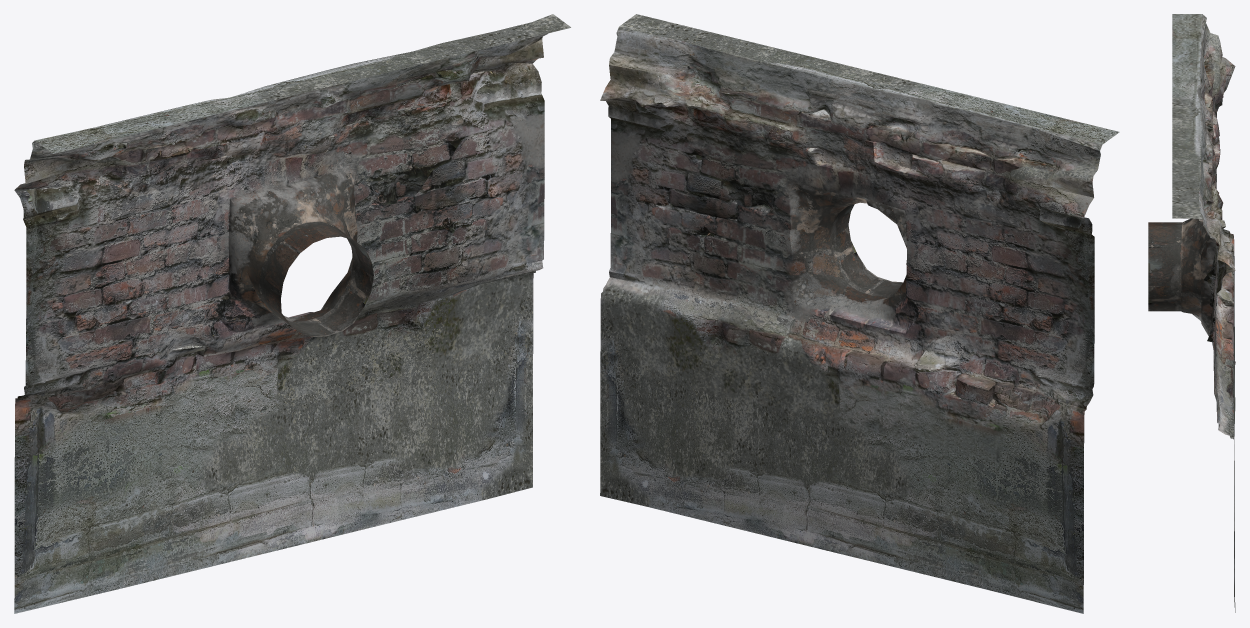
File: SM_ChapelWall_04_04_OneSide.fbx
The picture shows the model from 3 angles, left to right: view 1: azimuth 30°, elevation 25°; view 2: azimuth 150°, elevation 25°; view 3: azimuth 270°, elevation 25°; orthographic projection. The views are drawn at different scales.
Parts seen in each view (by area): view 1: sm_ChapelWall_04_04_OneSide_LOD0; view 2: sm_ChapelWall_04_04_OneSide_LOD0; view 3: sm_ChapelWall_04_04_OneSide_LOD0.
Part boxes in pixels (x1,y1,x2,y2): sm_ChapelWall_04_04_OneSide_LOD0: (14,14,570,613); sm_ChapelWall_04_04_OneSide_LOD0: (600,14,1119,613); sm_ChapelWall_04_04_OneSide_LOD0: (1148,14,1235,612).
Size of the model in its own units: 45.05 by 250 by 225.
